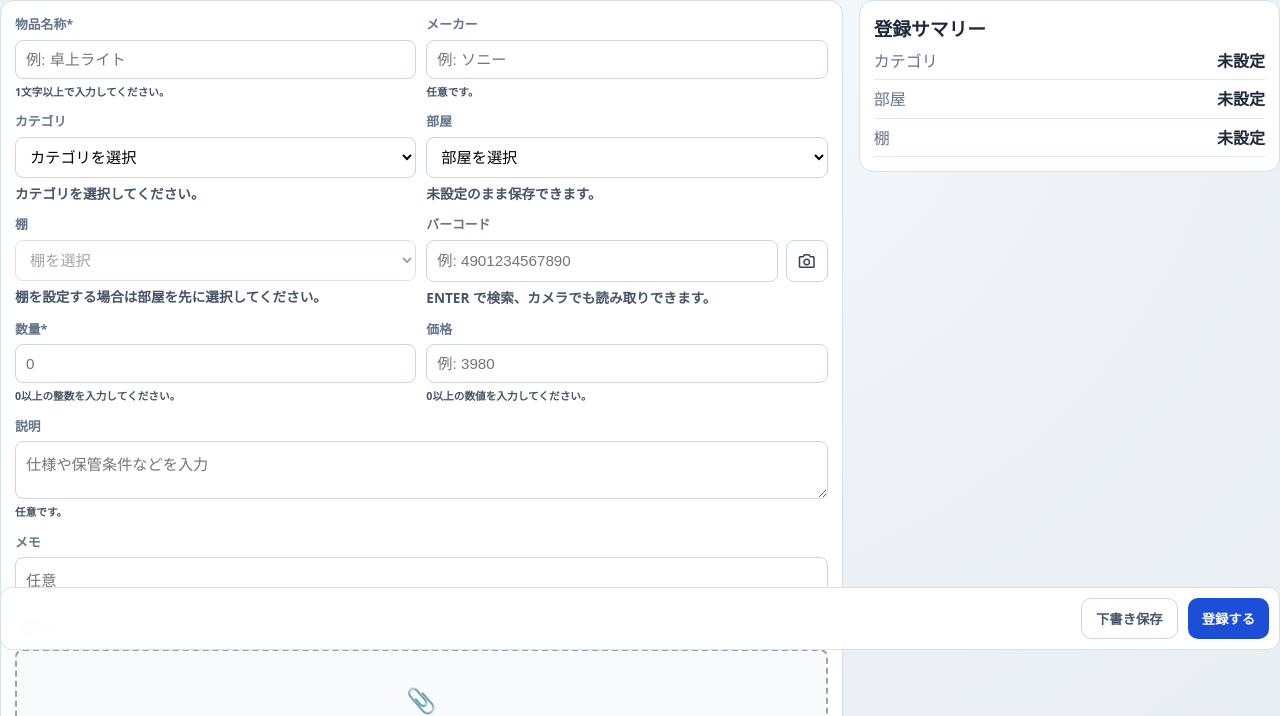
Test: ItemForm Success Criteria Metrics › SC-001: 主要3項目の自動入力完了が30秒未満
Type "4901234567890" into the field named "barcode" at (602, 261), box [426, 240, 778, 282]
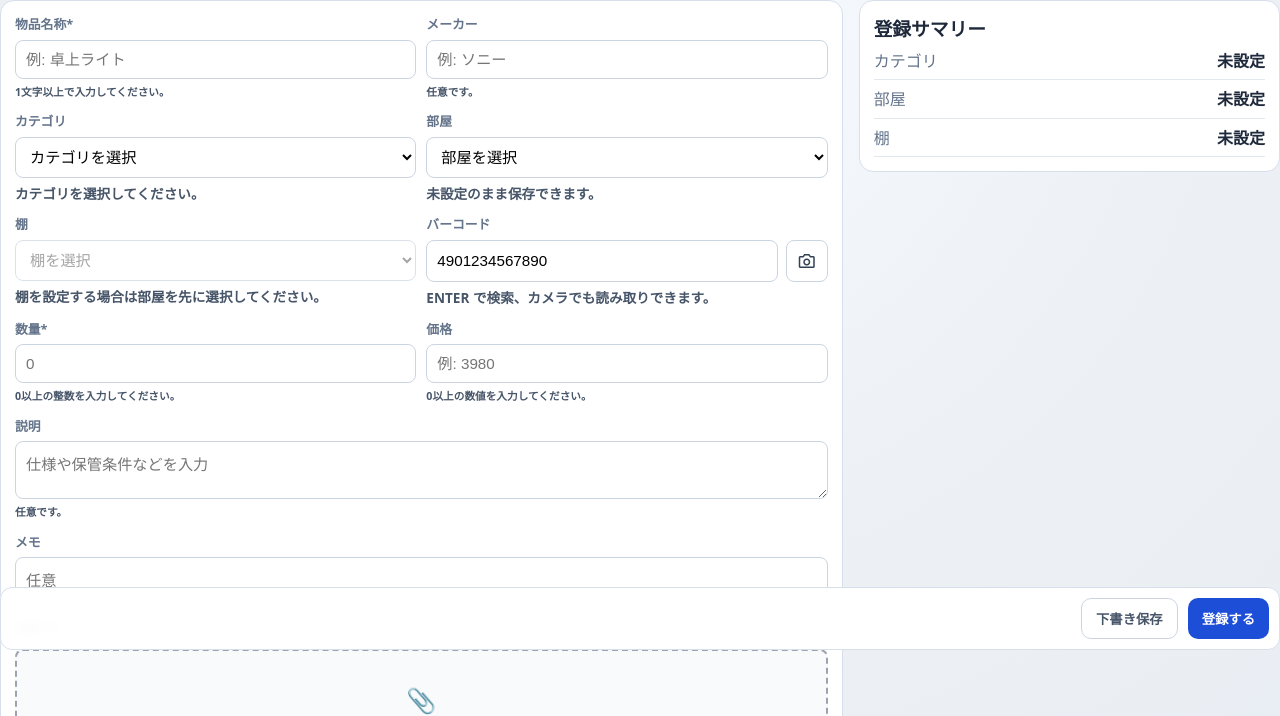
Press Enter in the field named "barcode", box [426, 240, 778, 282]
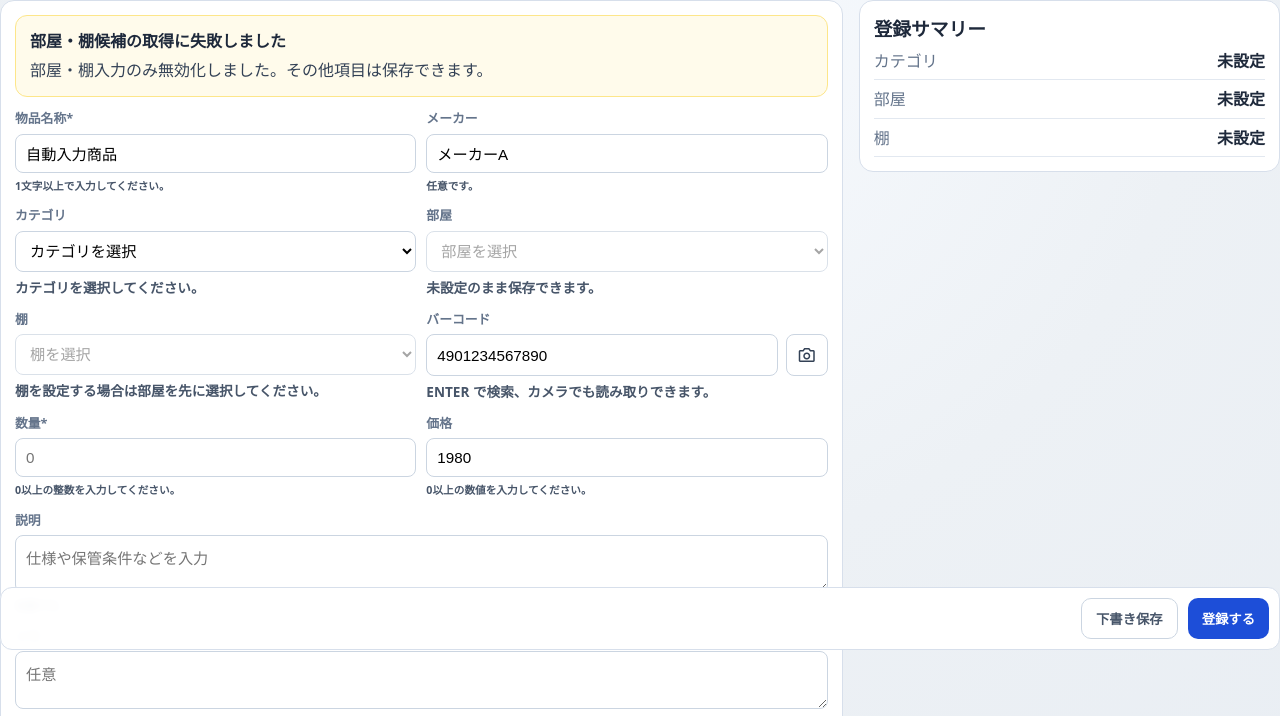
expect the field named "name" holds "自動入力商品": met, box [15, 134, 416, 173]
expect the field named "manufacturer" holds "メーカーA": met, box [426, 134, 828, 173]
expect the field named "priceInput" holds "1980": met, box [426, 438, 828, 477]
